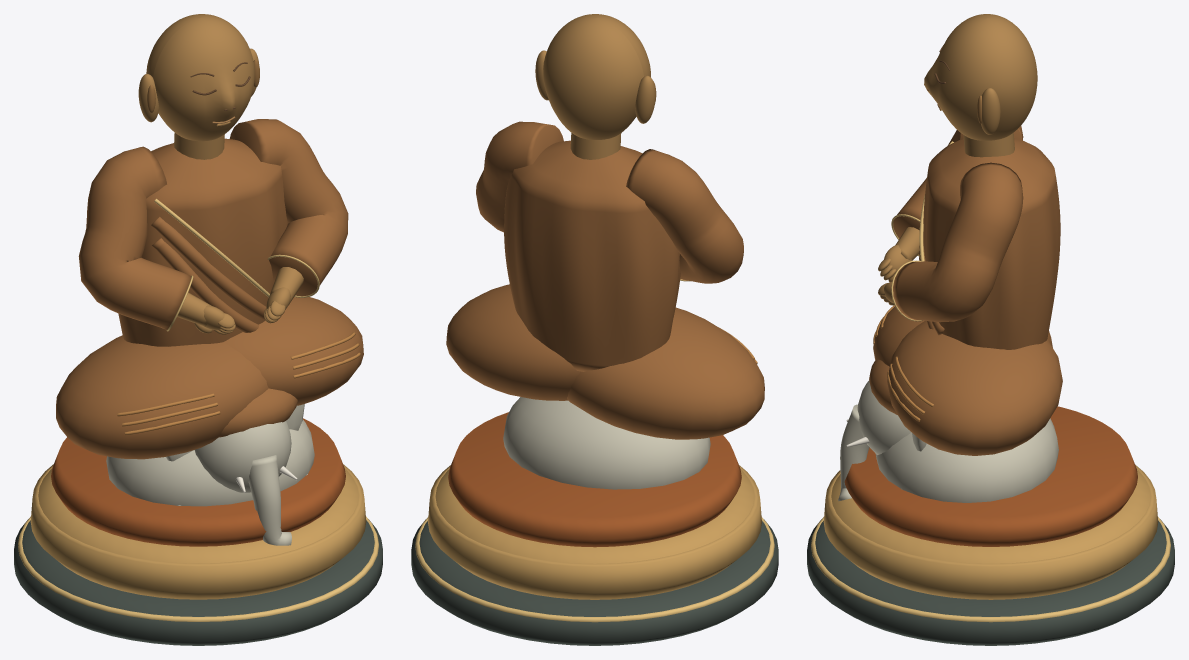
The model's file is arhat_12.glb.
The picture shows the model from 3 angles, left to right: view 1: azimuth 30°, elevation 25°; view 2: azimuth 150°, elevation 25°; view 3: azimuth 270°, elevation 25°; orthographic projection.
Parts seen in each view (by area): view 1: arhat_12_ArhatDrapery, arhat_12_AntiqueGold, arhat_12_CarvedPlinth, arhat_12_WarmBronze, arhat_12_SaffronDrapery, arhat_12_ElephantIvory, arhat_12_RaisedGoldBorders, arhat_12_DraperyFoldHighlights; view 2: arhat_12_ArhatDrapery, arhat_12_SaffronDrapery, arhat_12_AntiqueGold, arhat_12_CarvedPlinth, arhat_12_ElephantIvory, arhat_12_WarmBronze, arhat_12_RaisedGoldBorders; view 3: arhat_12_ArhatDrapery, arhat_12_AntiqueGold, arhat_12_SaffronDrapery, arhat_12_CarvedPlinth, arhat_12_WarmBronze, arhat_12_ElephantIvory, arhat_12_RaisedGoldBorders, arhat_12_DraperyFoldHighlights.
Part boxes in pixels (x1,y1,x2,y2): arhat_12_ArhatDrapery: [56, 119, 363, 459]; arhat_12_AntiqueGold: [30, 464, 366, 599]; arhat_12_CarvedPlinth: [14, 519, 382, 645]; arhat_12_WarmBronze: [138, 14, 303, 334]; arhat_12_SaffronDrapery: [51, 418, 345, 546]; arhat_12_ElephantIvory: [106, 404, 314, 545]; arhat_12_RaisedGoldBorders: [18, 198, 378, 621]; arhat_12_DraperyFoldHighlights: [117, 332, 360, 435]; arhat_12_ArhatDrapery: [446, 121, 764, 439]; arhat_12_SaffronDrapery: [448, 412, 741, 547]; arhat_12_AntiqueGold: [428, 465, 761, 599]; arhat_12_CarvedPlinth: [411, 519, 778, 645]; arhat_12_ElephantIvory: [503, 397, 710, 489]; arhat_12_WarmBronze: [535, 14, 655, 159]; arhat_12_RaisedGoldBorders: [415, 279, 774, 622]; arhat_12_ArhatDrapery: [869, 125, 1062, 455]; arhat_12_AntiqueGold: [823, 464, 1158, 599]; arhat_12_SaffronDrapery: [844, 406, 1137, 546]; arhat_12_CarvedPlinth: [807, 519, 1174, 645]; arhat_12_WarmBronze: [878, 14, 1037, 305]; arhat_12_ElephantIvory: [838, 380, 1058, 502]; arhat_12_RaisedGoldBorders: [811, 141, 1170, 622]; arhat_12_DraperyFoldHighlights: [873, 305, 933, 421].
Bounding box in the file's own units: 0.92 × 1.53 × 0.92.
